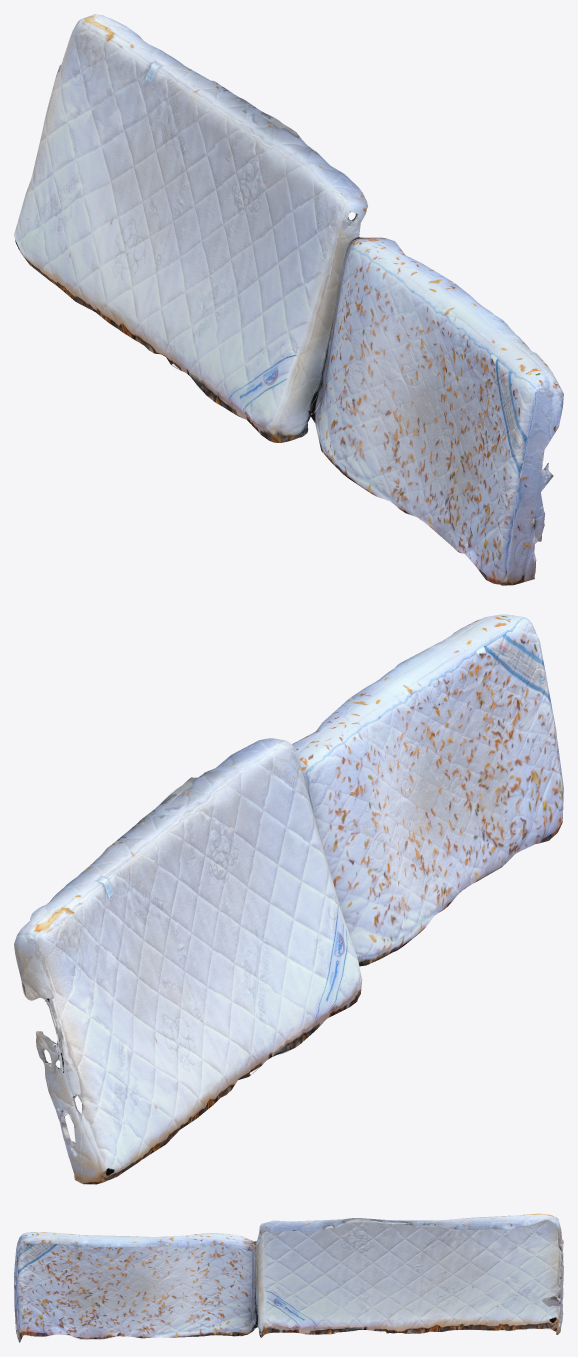
File: 2 Matratzen.glb
3 views of the same model, one above another, from view 1: azimuth 30°, elevation 25°; view 2: azimuth 150°, elevation 25°; view 3: azimuth 270°, elevation 25° (orthographic). The views are drawn at different scales.
Parts seen in each view (by area): view 1: Remesh_1; view 2: Remesh_1; view 3: Remesh_1.
Boxes of the visible parts, x1,y1,x2,y2 form: Remesh_1: [14, 14, 563, 585]; Remesh_1: [14, 614, 563, 1184]; Remesh_1: [14, 1213, 563, 1342].
Bounding box in the file's own units: 48.09 × 100 × 356.
1 material, 1 textured.
